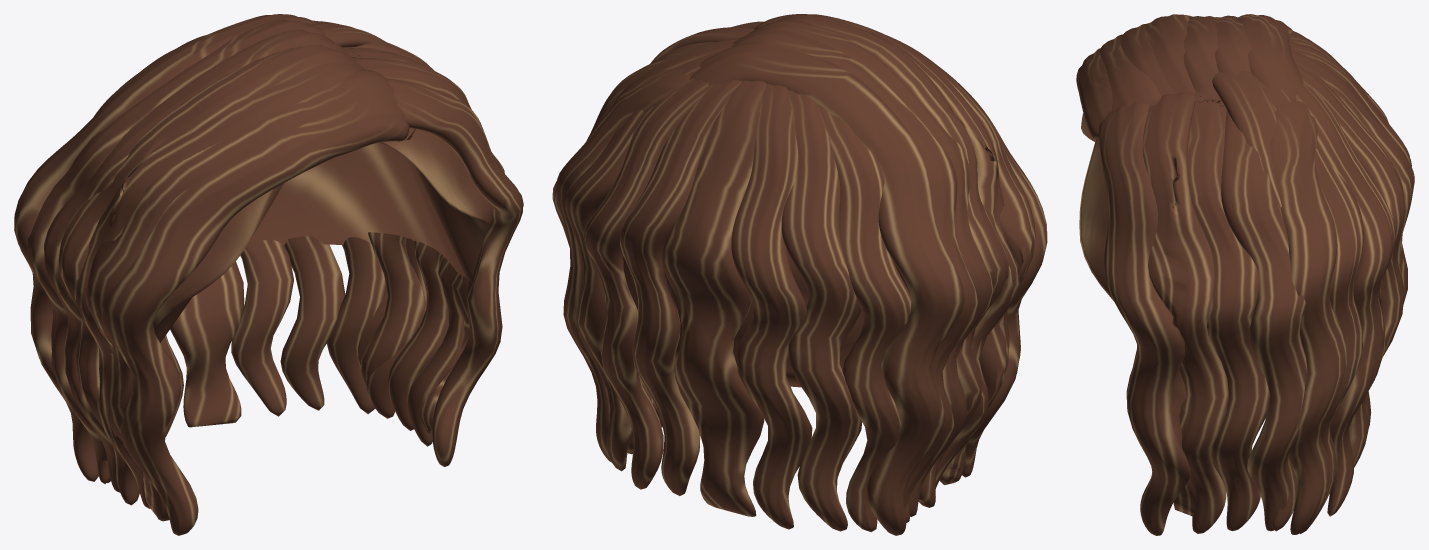
File: Highlights-e458574e0c9d252-hair.glb
3 views of the same model, side by side, from view 1: azimuth 30°, elevation 25°; view 2: azimuth 150°, elevation 25°; view 3: azimuth 270°, elevation 25° (orthographic).
Visible parts, largest first — view 1: 226 hair / Hair / sculpted 0.001, 226 hair / Hair / sculpted 1.002, 226 hair / Hair / sculpted 2.001, 226 hair / Hair / sculpted 1.001; view 2: 226 hair / Hair / sculpted 0.001, 226 hair / Hair / sculpted 2.001, 226 hair / Hair / sculpted 1.002, 226 hair / Hair / sculpted 1.001; view 3: 226 hair / Hair / sculpted 1.002, 226 hair / Hair / sculpted 2.001, 226 hair / Hair / sculpted 0.001, 226 hair / Hair / sculpted 1.001.
Boxes of the visible parts, bbox=[...] form: 226 hair / Hair / sculpted 0.001: bbox=[14, 14, 448, 535]; 226 hair / Hair / sculpted 1.002: bbox=[44, 23, 523, 521]; 226 hair / Hair / sculpted 2.001: bbox=[27, 19, 504, 508]; 226 hair / Hair / sculpted 1.001: bbox=[153, 129, 493, 342]; 226 hair / Hair / sculpted 0.001: bbox=[583, 15, 1047, 535]; 226 hair / Hair / sculpted 2.001: bbox=[556, 14, 1020, 532]; 226 hair / Hair / sculpted 1.002: bbox=[552, 14, 1035, 531]; 226 hair / Hair / sculpted 1.001: bbox=[623, 251, 863, 387]; 226 hair / Hair / sculpted 1.002: bbox=[1099, 16, 1404, 535]; 226 hair / Hair / sculpted 2.001: bbox=[1120, 15, 1414, 534]; 226 hair / Hair / sculpted 0.001: bbox=[1076, 14, 1411, 531]; 226 hair / Hair / sculpted 1.001: bbox=[1079, 113, 1380, 301].
Size of the model in its own units: 1.13 by 1.13 by 0.7898.
4 materials, 4 textured.
